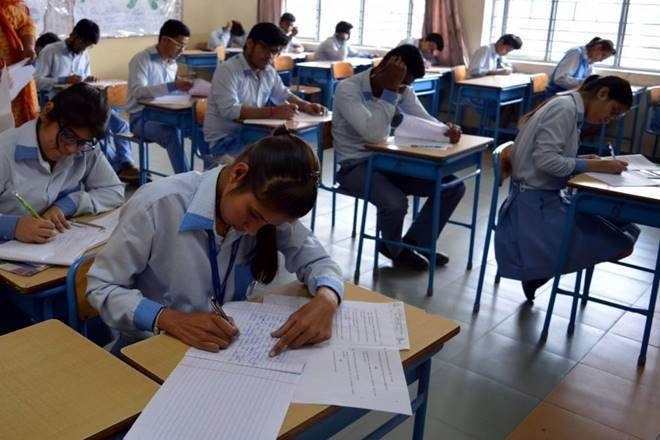student: (63, 126, 364, 369), (494, 37, 643, 191), (1, 83, 150, 235), (321, 39, 470, 162), (210, 19, 348, 138), (109, 10, 223, 103), (24, 12, 136, 86), (298, 5, 370, 59), (471, 19, 524, 81), (396, 24, 458, 61)
